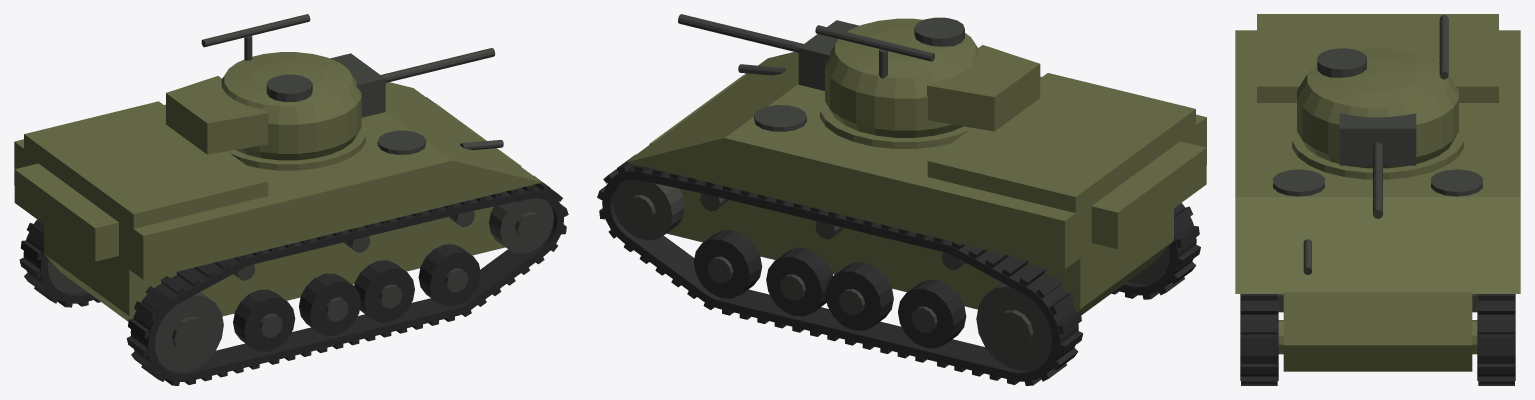
Rendered from us_m5a1_stuart.obj.
3 renders of one model, left to right at view 1: azimuth 30°, elevation 25°; view 2: azimuth 150°, elevation 25°; view 3: azimuth 270°, elevation 25°, orthographic. The views are drawn at different scales.
Size of the model in its own units: 4.53 by 2.41 by 2.24.
